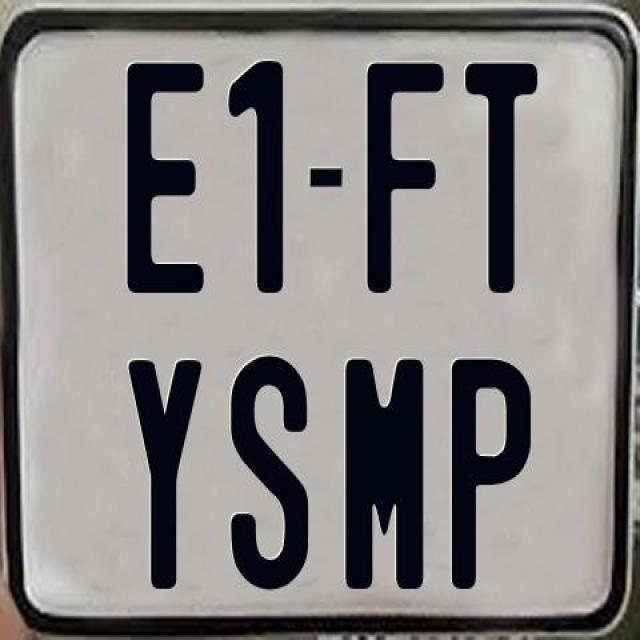1: (223, 59, 286, 298)
E: (125, 58, 208, 294)
F: (366, 58, 450, 296)
M: (341, 356, 427, 590)
P: (452, 354, 535, 594)
S: (230, 352, 310, 597)
T: (461, 58, 536, 296)
Y: (124, 358, 203, 594)
